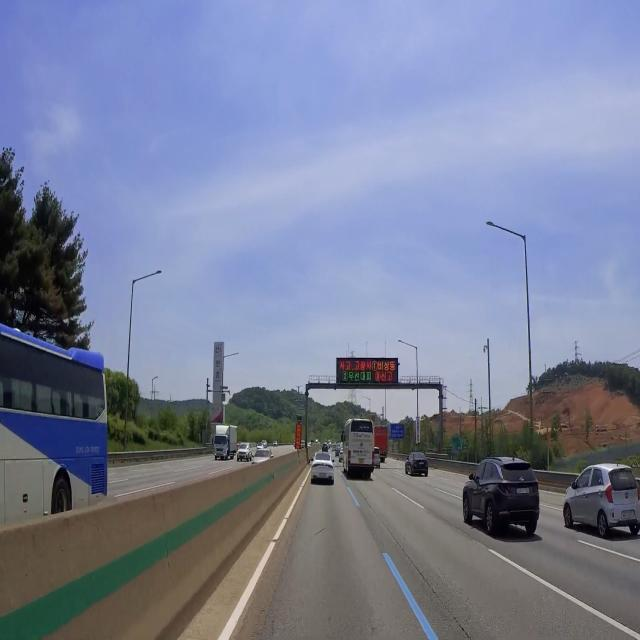car: (619, 505, 639, 524), (514, 485, 534, 498), (356, 456, 372, 470), (317, 468, 330, 483), (417, 460, 429, 470), (239, 454, 246, 460)
